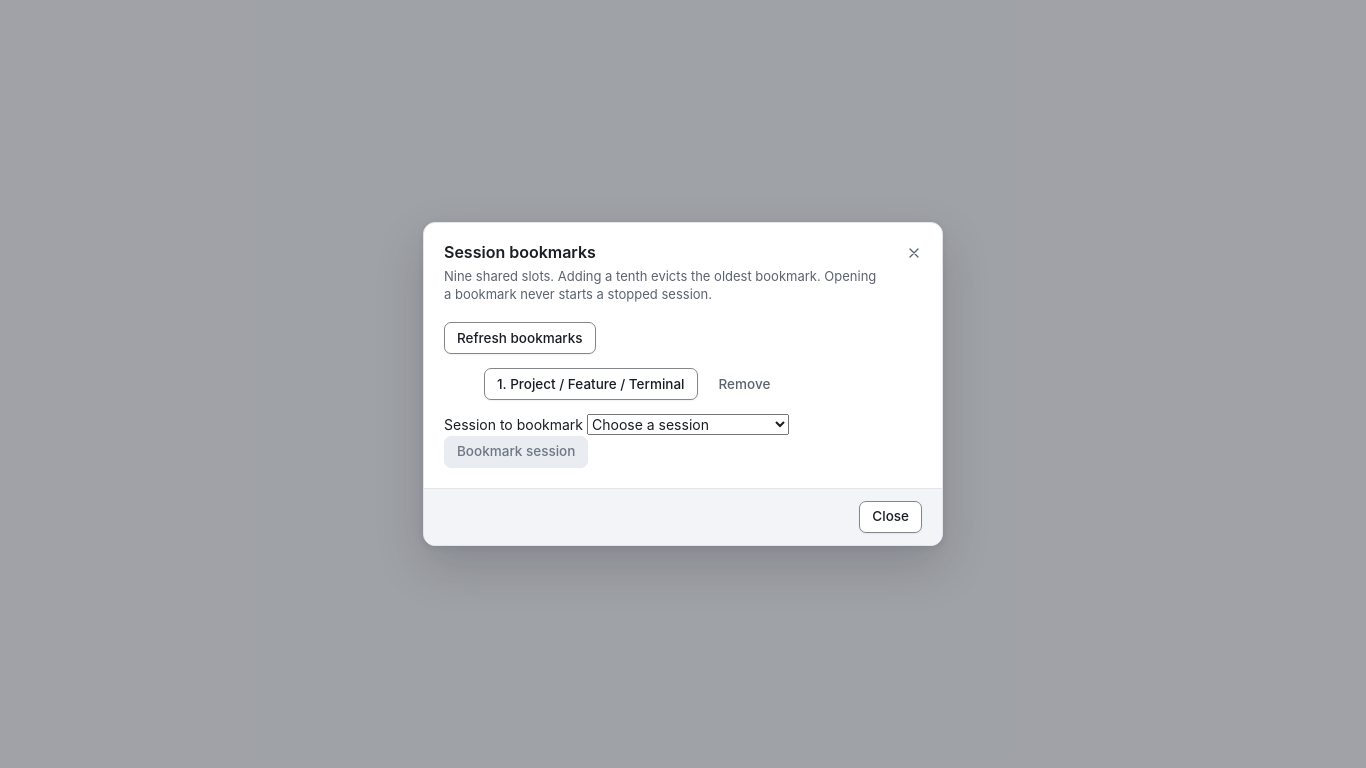
labels retained results after refresh failure and disables stale actions until retry
Expected: the button with aria-label "Remove bookmark 1" is shown, [706,368,783,400]
Click the button "Refresh bookmarks".
click(520, 338)  # box [444,322,596,354]
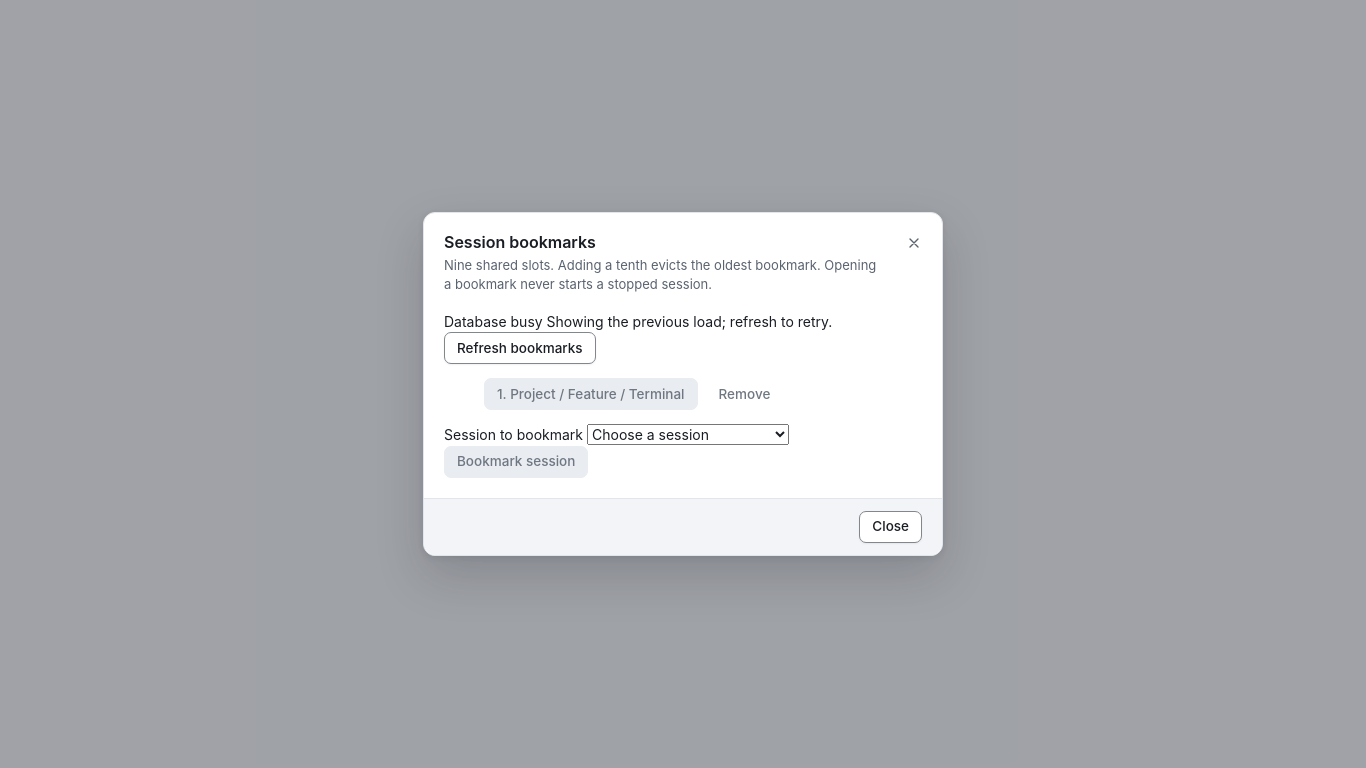
Expected: the message shows "Showing the previous load", [543,313,832,330]
Expected: the button with aria-label "Remove bookmark 1" is disabled, [706,378,783,410]
Click the button "Refresh bookmarks".
click(520, 348)  # box [444,332,596,364]
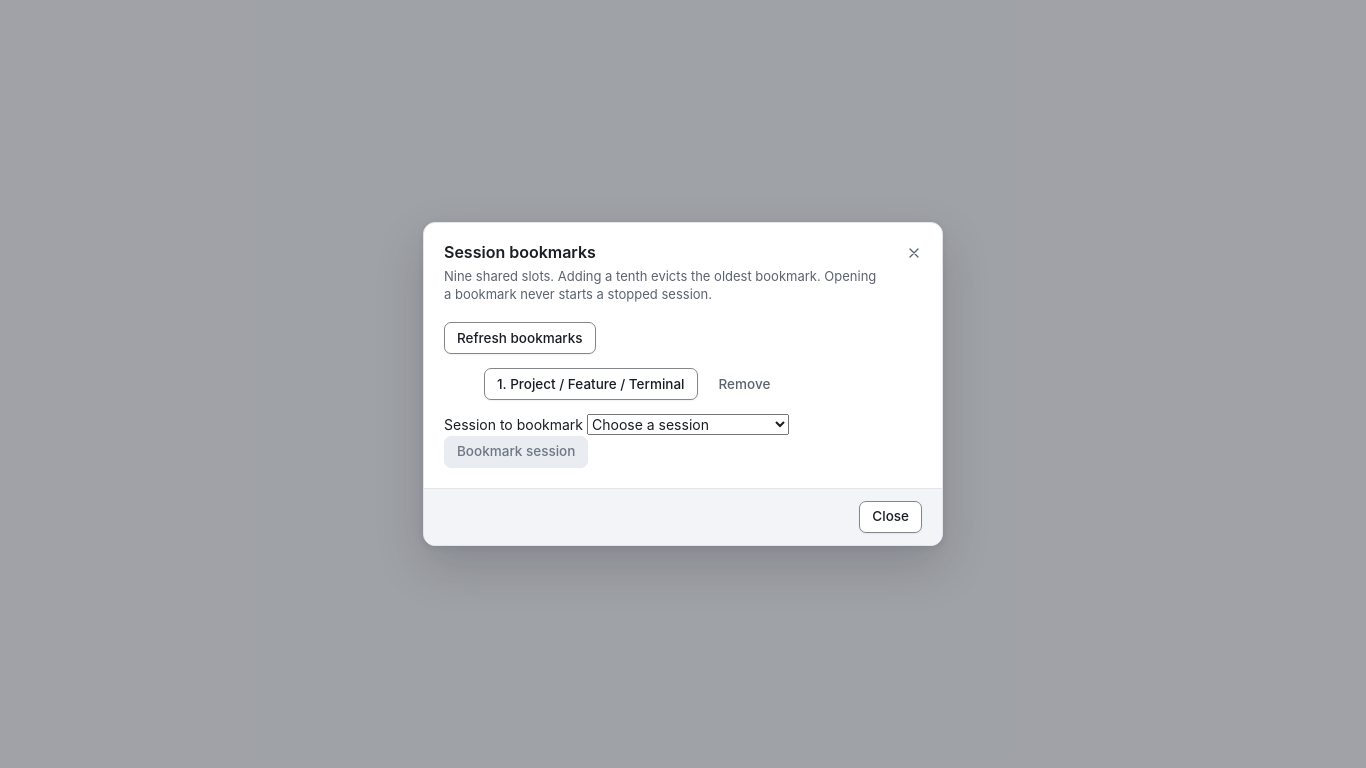
Expected: the message "Database busy Showing the previous load; refresh to retry." is gone
Expected: the button with aria-label "Remove bookmark 1" is enabled, [706,368,783,400]
